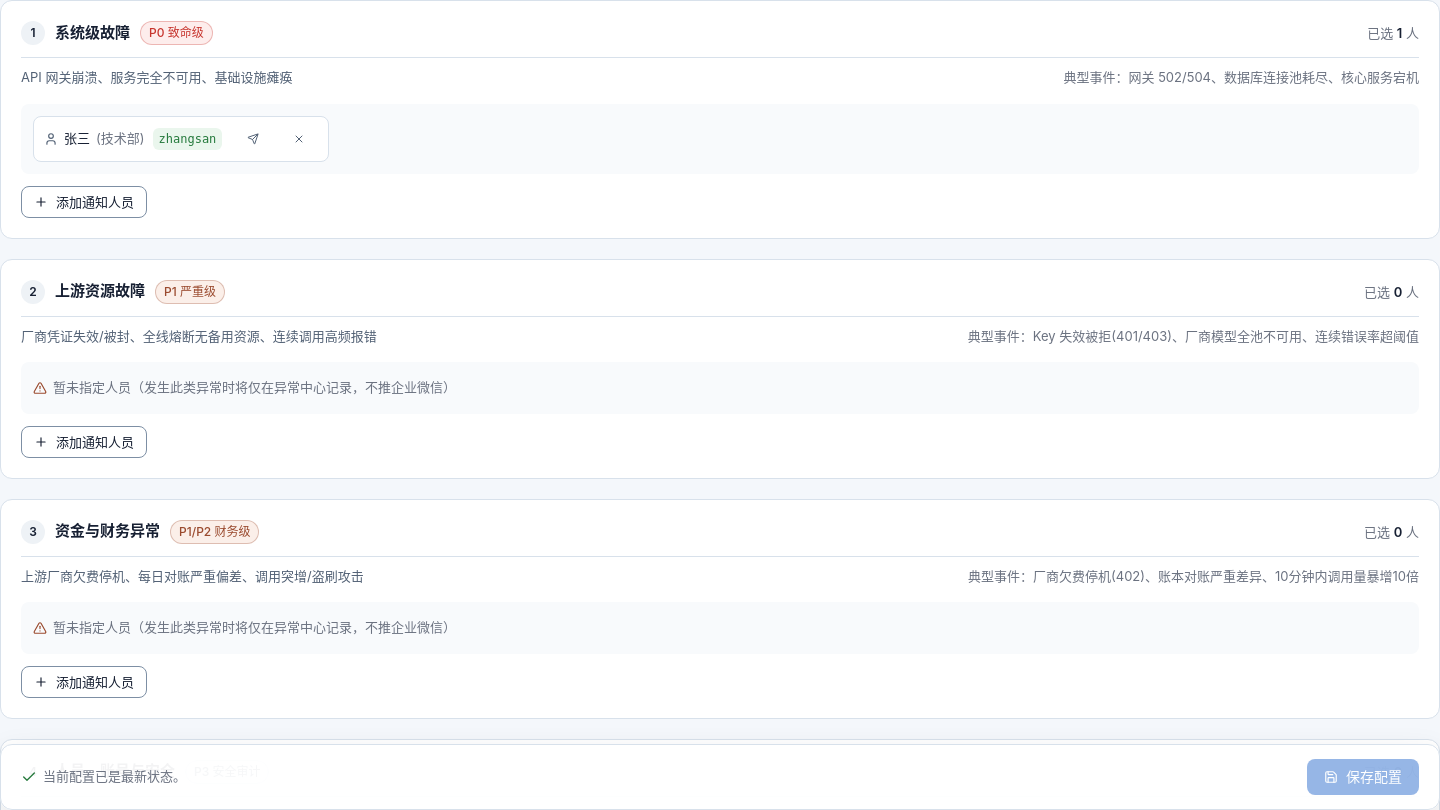
Test: NotificationRecipientsPanel › 支持发送测试企微通知
Click the button named "向 张三 测试发送企微消息": (253, 138) [234,122,272,154]
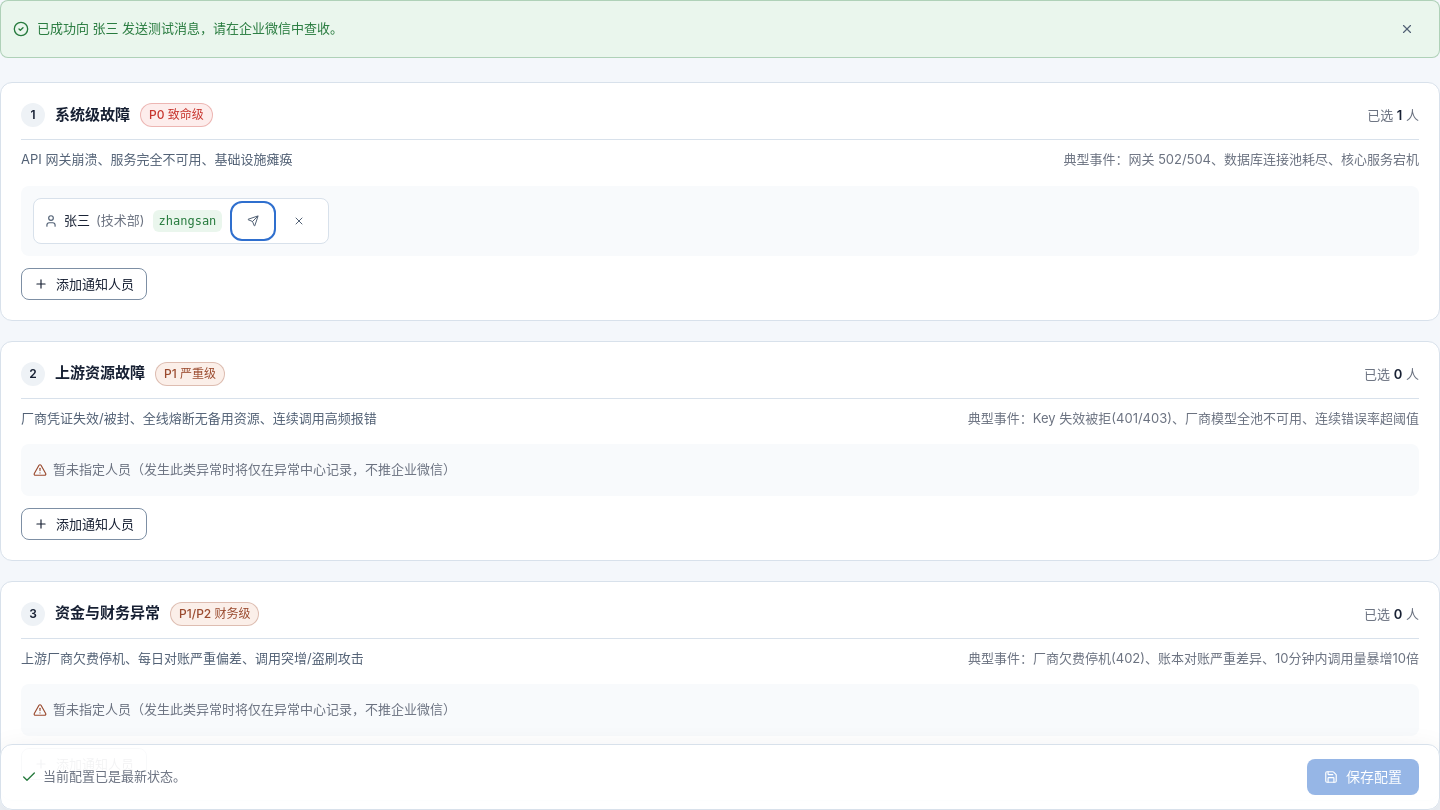
Check: the text "已成功向 张三 发送测试消息，请在企业微信中查收。" is shown, box [37,19,343,39]
